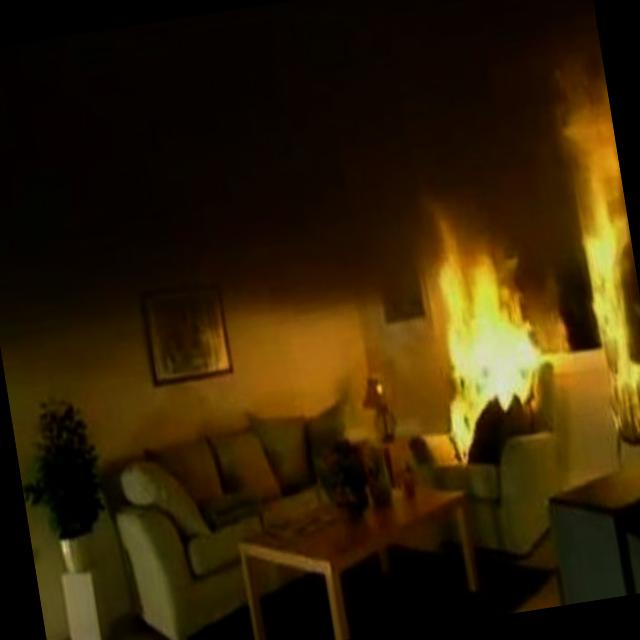Fire_Dangerous: (423, 231, 560, 471), (570, 185, 640, 452)
